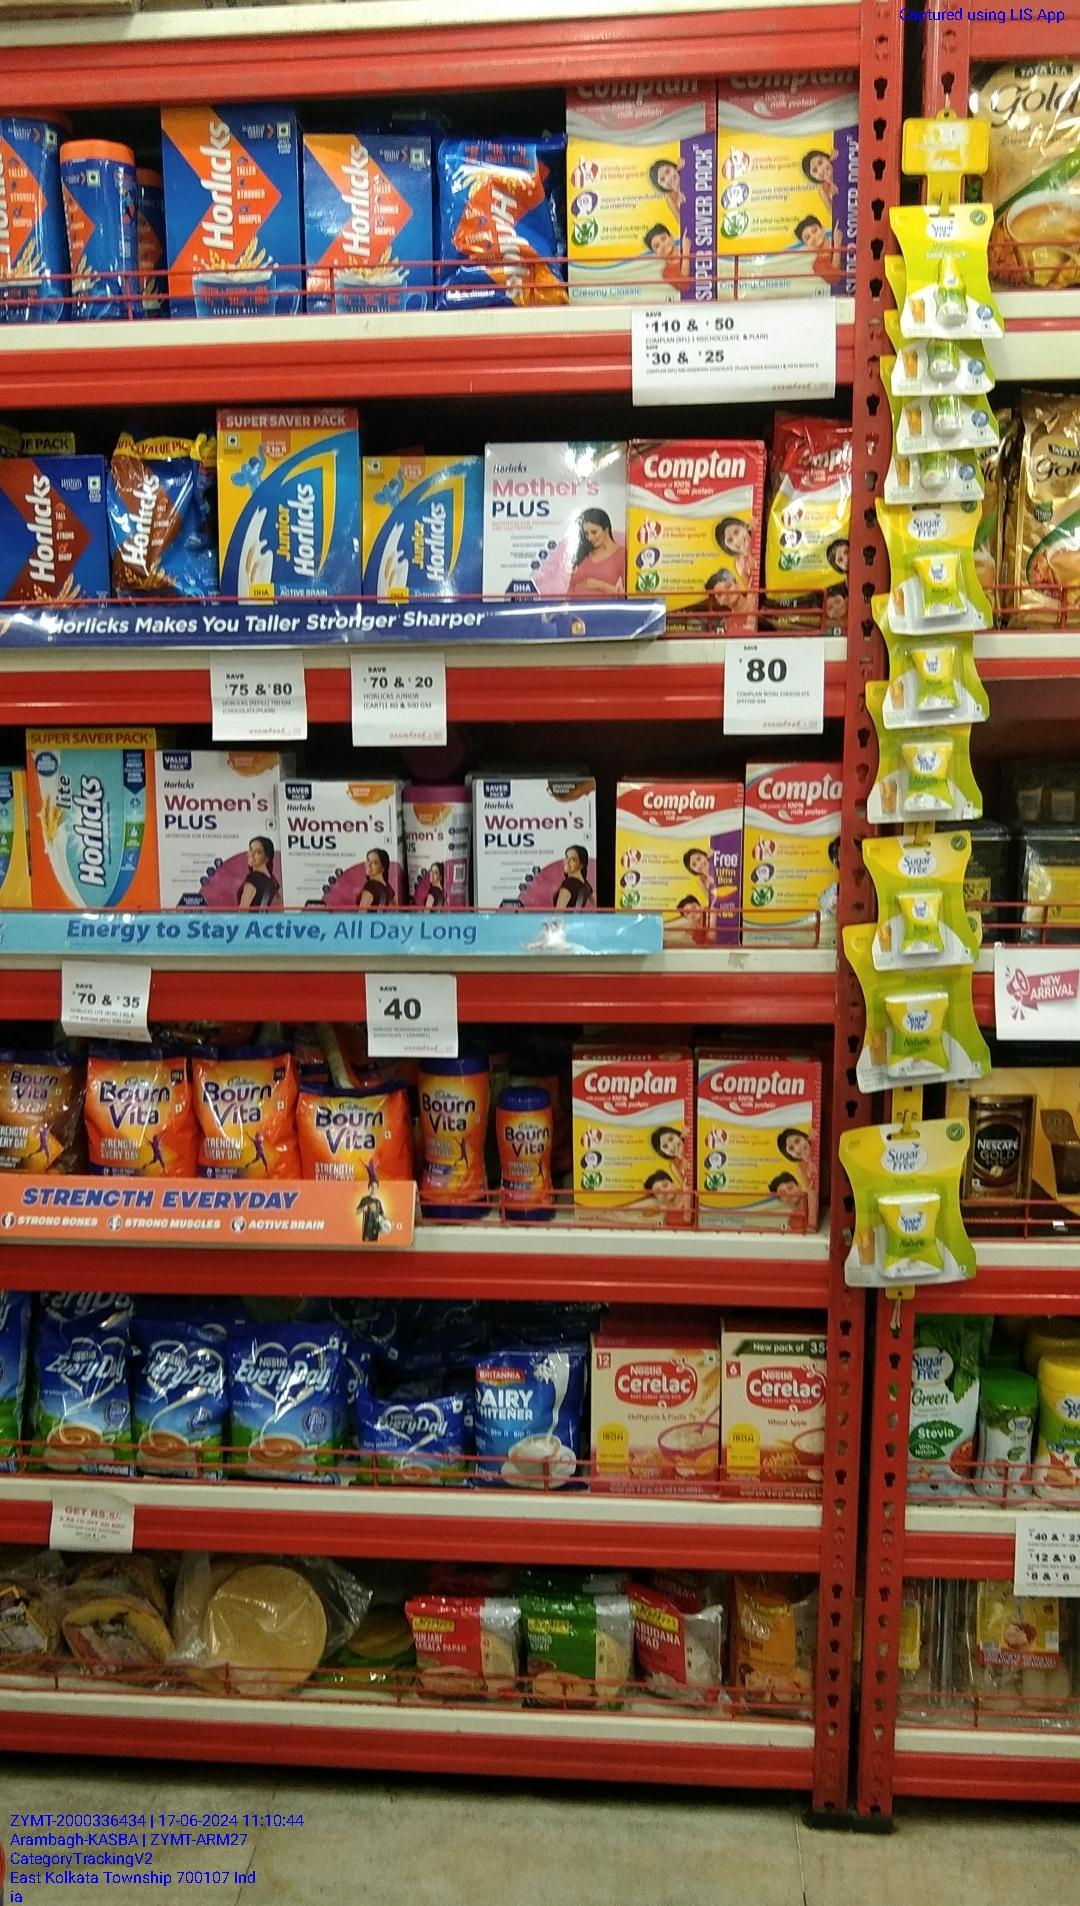BOURN_VITA_200_G_JAR: (495, 1096, 555, 1229)
BOURN_VITA_500_G_JAR: (420, 1059, 487, 1221)
BOURN_VITA_500_G_POUCH: (298, 1087, 407, 1185)
BOURN_VITA_750_G_POUCH: (88, 1050, 192, 1179), (199, 1050, 292, 1185)
COMPLAN_CHOCOLATE_500_GMS_PACK: (630, 441, 758, 638)
COMPLAN_CREAMY_CLASSIC_500_G_PACK: (746, 762, 843, 957)
COMPLAN_KESAR_BADAM_200_GMS_PACK: (575, 1062, 694, 1232)
COMPLAN_KESAR_BADAM_500_GMS_PACK: (614, 783, 747, 963)
COMPLAN_RC_POUCH_700_GMS_12: (767, 419, 850, 640)
HORLICK_CHOCOLATE_500_G_PACK: (0, 456, 102, 607)
HORLICK_CHOCOLATE_750_G_POUCH: (109, 425, 213, 610)
HORLICK_CLASSIC_MALT_500_G_PACK: (164, 103, 297, 318)
